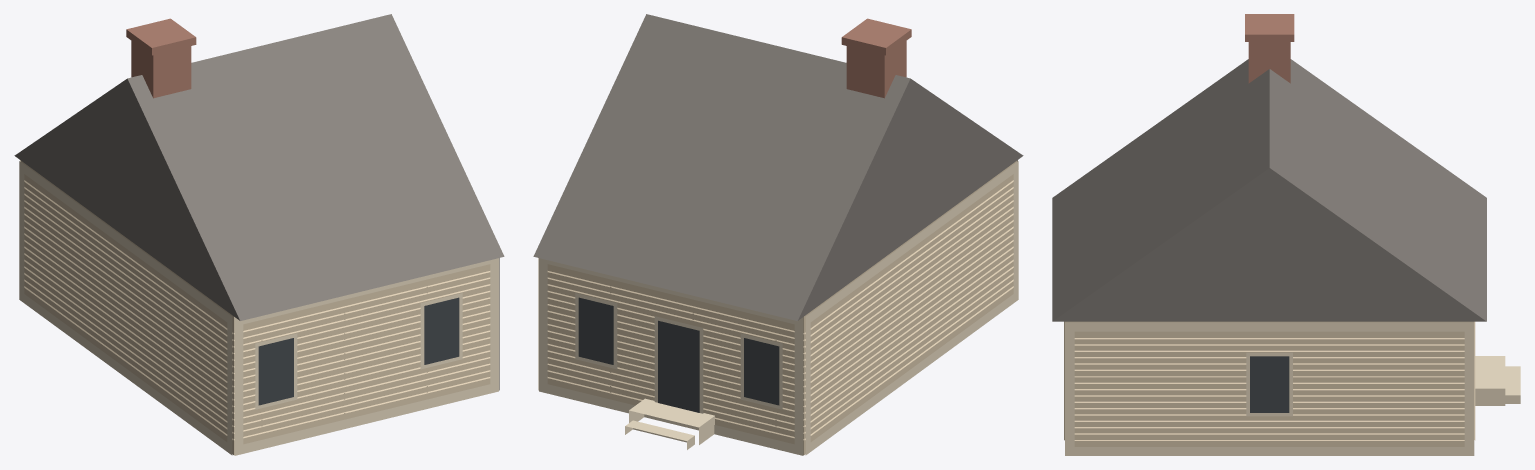
Rendered from recon_1835_blk_south_water_lasalle_d4_02__inferred_1835.glb.
3 views of the same model, side by side, from view 1: azimuth 30°, elevation 25°; view 2: azimuth 150°, elevation 25°; view 3: azimuth 270°, elevation 25° (orthographic). The views are drawn at different scales.
Visible parts, largest first — view 1: recon_1835_blk_south_water_lasalle_d4_02__inferred_1835; view 2: recon_1835_blk_south_water_lasalle_d4_02__inferred_1835; view 3: recon_1835_blk_south_water_lasalle_d4_02__inferred_1835.
Part boxes in pixels (<box>): recon_1835_blk_south_water_lasalle_d4_02__inferred_1835: <box>14,14,504,455</box>; recon_1835_blk_south_water_lasalle_d4_02__inferred_1835: <box>533,14,1023,455</box>; recon_1835_blk_south_water_lasalle_d4_02__inferred_1835: <box>1052,14,1520,455</box>.
Bounding box in the file's own units: 5.92 × 7.1 × 9.33.
